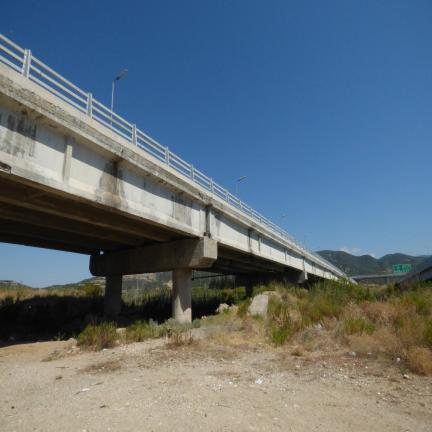beam: (0, 62, 347, 286)
pier bridge: (172, 268, 192, 324), (104, 275, 123, 317)
pier cap: (89, 238, 218, 276)
spalling: (2, 76, 269, 235)
stain: (4, 117, 36, 161), (100, 154, 126, 208), (169, 195, 191, 232)
